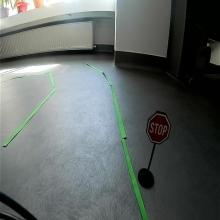stop: (146, 111, 171, 145)
